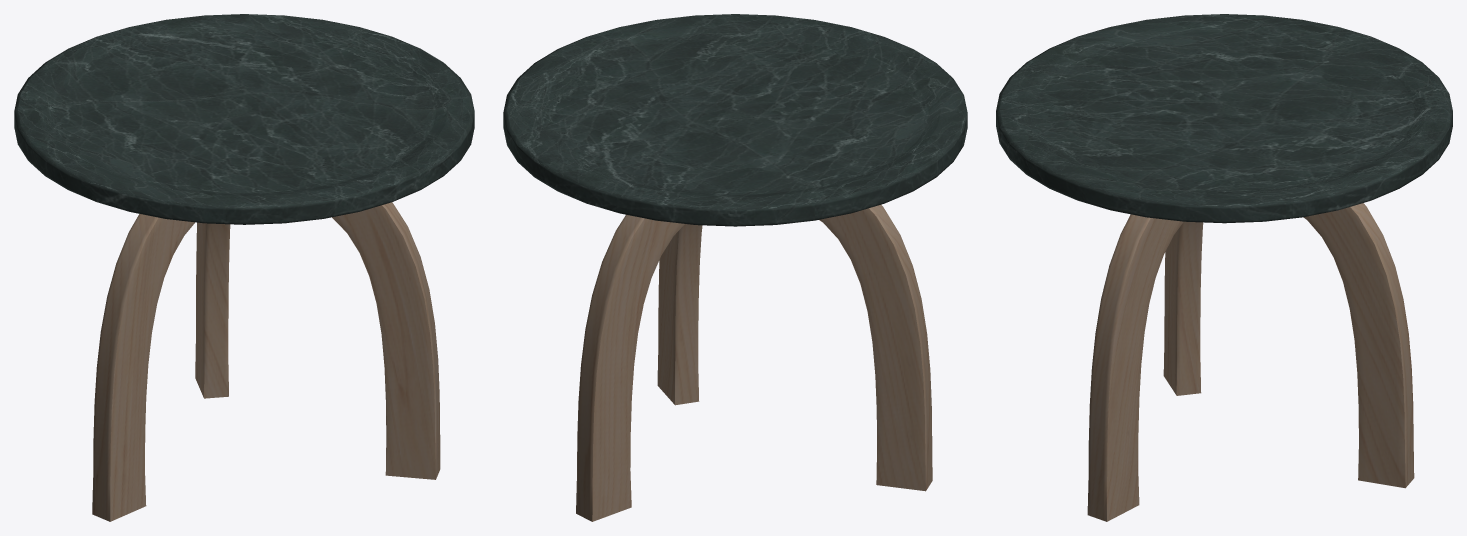
The model's file is AlvarChair.fbx.
3 views of the same model, side by side, from view 1: azimuth 30°, elevation 25°; view 2: azimuth 150°, elevation 25°; view 3: azimuth 270°, elevation 25° (orthographic).
Parts seen in each view (by area): view 1: Cylinder001; view 2: Cylinder001; view 3: Cylinder001.
Part boxes in pixels (x1,y1,x2,y2): Cylinder001: [14, 14, 474, 521]; Cylinder001: [503, 14, 967, 521]; Cylinder001: [996, 14, 1452, 521].
Size of the model in its own units: 56.22 by 47.17 by 56.22.
